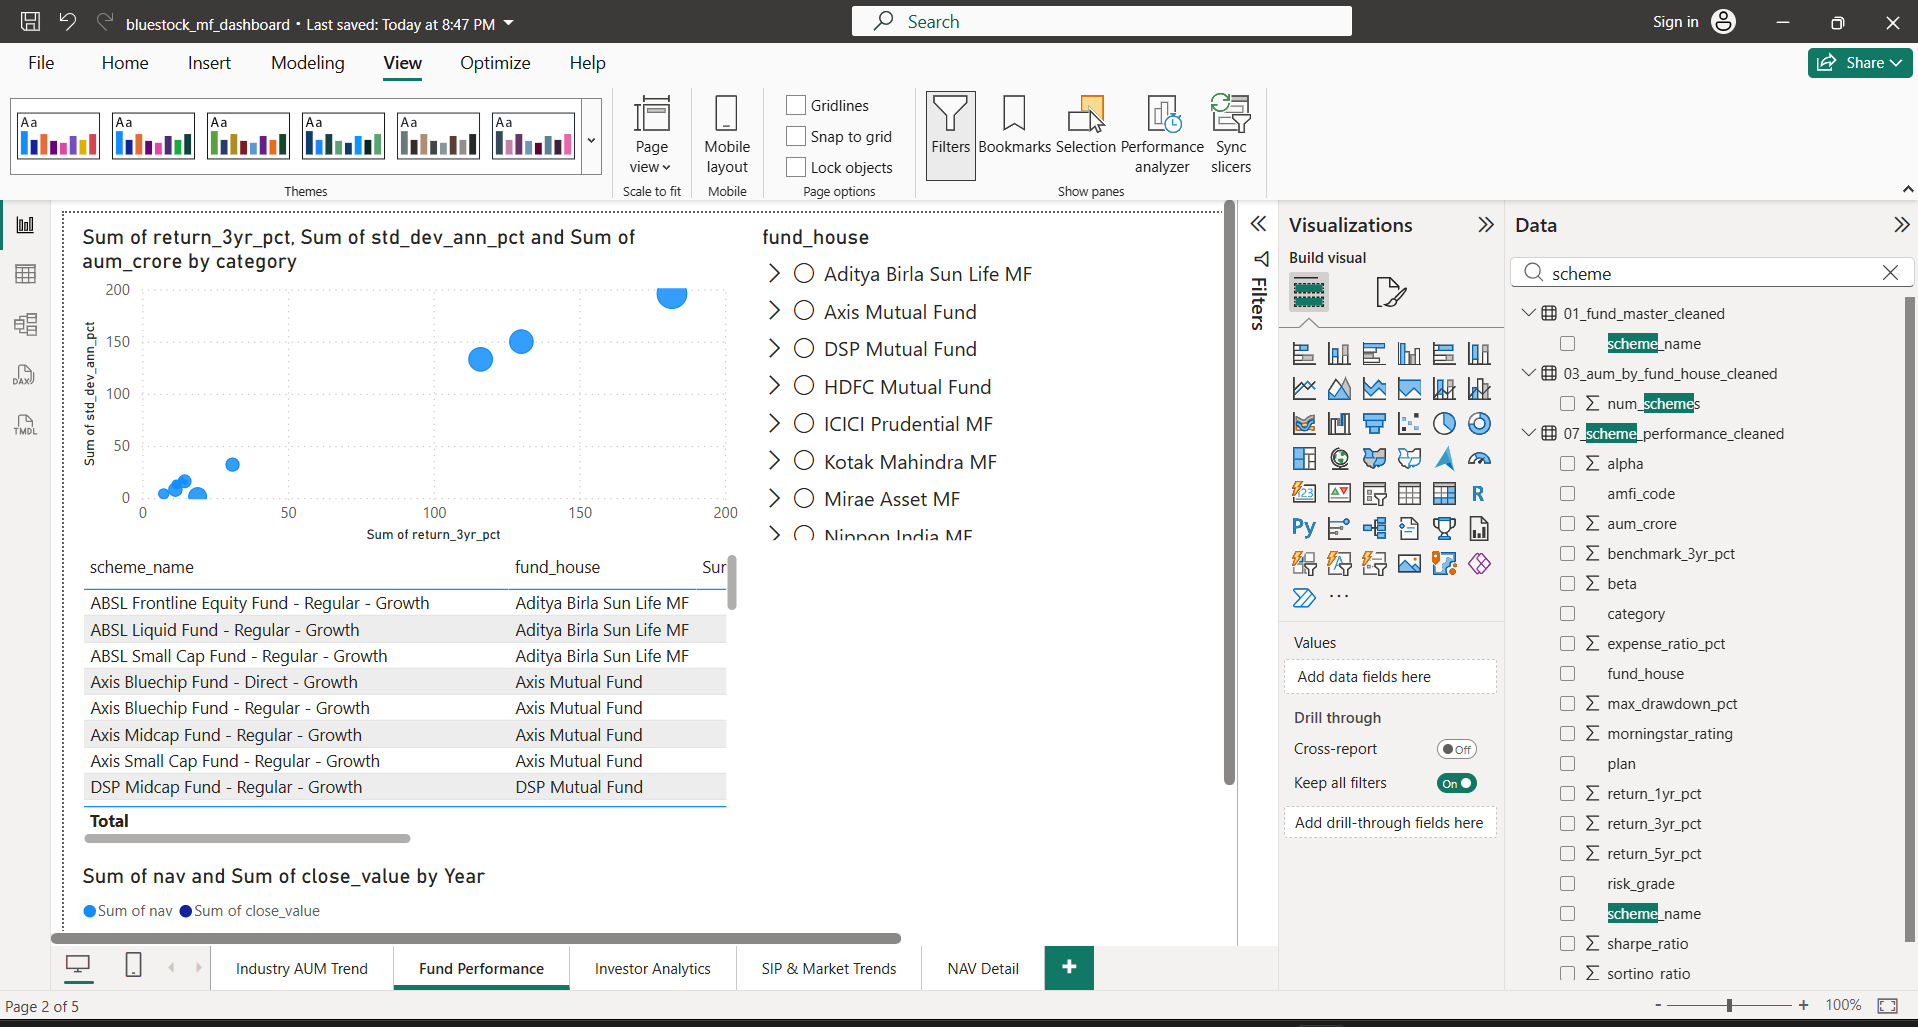

The page's visual inventory and layout, read from the dashboard file:
{"tool":"powerbi","page":{"name":"Fund Performance","canvas":[1280,720],"ordinal":1},"visuals":[{"type":"scatterChart","fields":{"X":["Sum(07_scheme_performance_cleaned.return_3yr_pct)"],"Y":["Sum(07_scheme_performance_cleaned.std_dev_ann_pct)"],"Size":["Sum(07_scheme_performance_cleaned.aum_crore)"],"Category":["07_scheme_performance_cleaned.category"]},"box":[10,9.2,534.2,259.2],"z":1},{"type":"tableEx","fields":{"Values":["01_fund_master_cleaned.scheme_name","07_scheme_performance_cleaned.fund_house","Sum(07_scheme_performance_cleaned.return_3yr_pct)","Sum(07_scheme_performance_cleaned.sharpe_ratio)","Sum(07_scheme_performance_cleaned.alpha)","Sum(07_scheme_performance_cleaned.expense_ratio_pct)"]},"box":[10,268.3,534.2,241.7],"z":2},{"type":"lineChart","fields":{"Category":["02_nav_history_cleaned.date.Variation.Date Hierarchy.Year","02_nav_history_cleaned.date.Variation.Date Hierarchy.Quarter","02_nav_history_cleaned.date.Variation.Date Hierarchy.Month","02_nav_history_cleaned.date.Variation.Date Hierarchy.Day"],"Y":["Sum(02_nav_history_cleaned.nav)","Sum(10_benchmark_indices_cleaned.close_value)"]},"box":[10,520,534,200],"z":3},{"type":"listSlicer","fields":{"Values":["07_scheme_performance_cleaned.fund_house","07_scheme_performance_cleaned.category","07_scheme_performance_cleaned.plan"]},"box":[554,9,534,259],"z":4}]}

Visuals, with their boxes on the page's 1280x720 design canvas (x1, y1, x2, y2). These are canvas units, not pixel positions in the 1918x1027 screenshot, which may show the page scaled, cropped or inside an application window:
scatterChart - Sum(07_scheme_performance_cleaned.return_3yr_pct) x Sum(07_scheme_performance_cleaned.std_dev_ann_pct): region(10, 9, 544, 268)
tableEx - 01_fund_master_cleaned.scheme_name x 07_scheme_performance_cleaned.fund_house: region(10, 268, 544, 510)
lineChart - 02_nav_history_cleaned.date.Variation.Date Hierarchy.Year x 02_nav_history_cleaned.date.Variation.Date Hierarchy.Quarter: region(10, 520, 544, 720)
listSlicer - 07_scheme_performance_cleaned.fund_house x 07_scheme_performance_cleaned.category: region(554, 9, 1088, 268)
